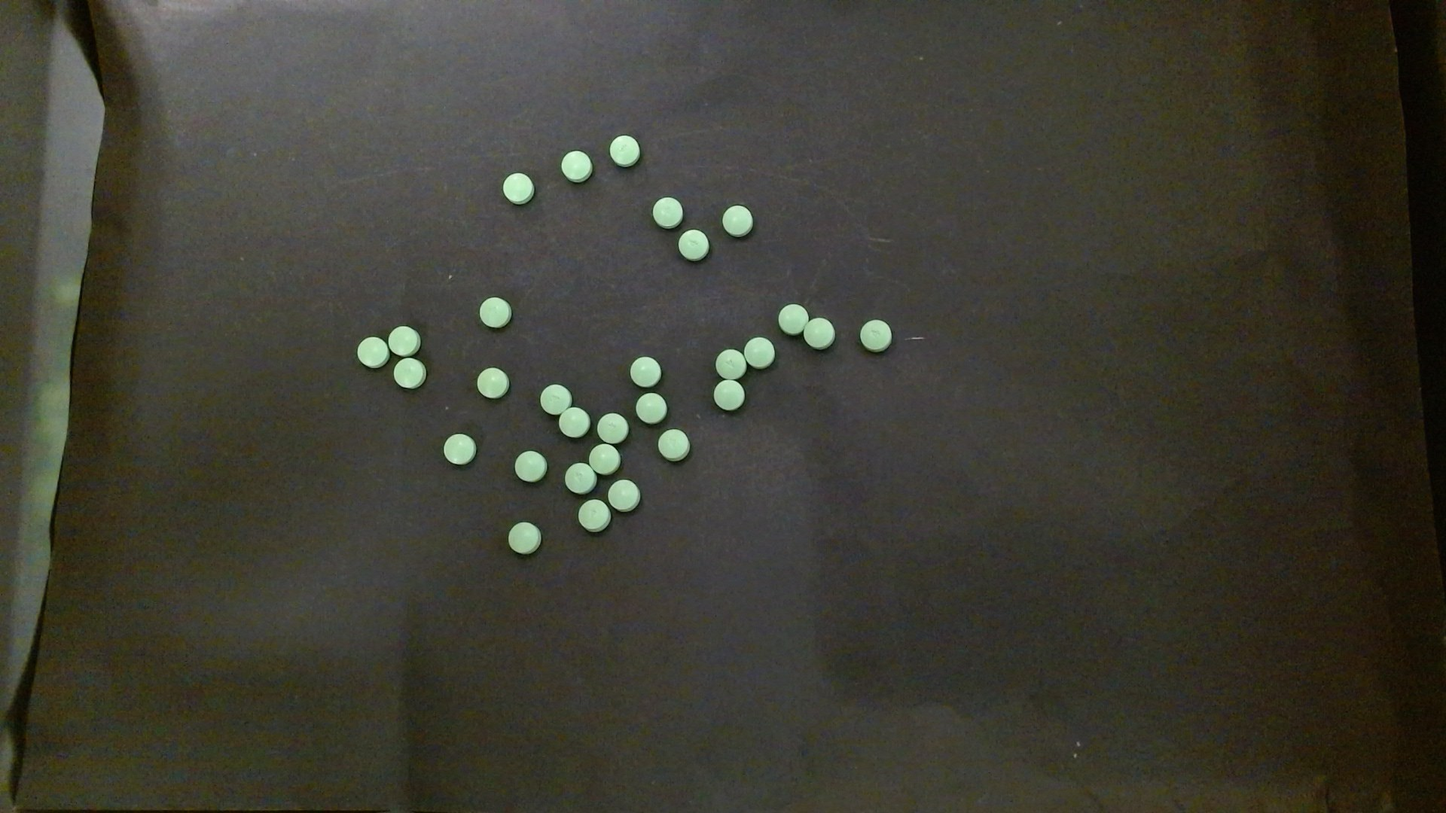Circle: (506, 520, 542, 556), (478, 296, 514, 330), (657, 428, 690, 461), (514, 450, 546, 483), (578, 499, 610, 532), (712, 379, 744, 411), (357, 336, 389, 368), (859, 320, 891, 352), (565, 462, 596, 495), (392, 357, 425, 388), (608, 479, 639, 511), (559, 406, 590, 438), (444, 433, 476, 464), (540, 383, 571, 415), (560, 150, 592, 181), (721, 205, 753, 236), (388, 324, 419, 356), (589, 443, 620, 474), (678, 229, 709, 260), (502, 172, 533, 203), (715, 348, 746, 379), (652, 196, 682, 228), (744, 336, 774, 368), (630, 356, 660, 387), (804, 318, 834, 349), (635, 393, 665, 424), (777, 303, 807, 334), (477, 367, 508, 397), (609, 135, 639, 166), (597, 413, 627, 443)
